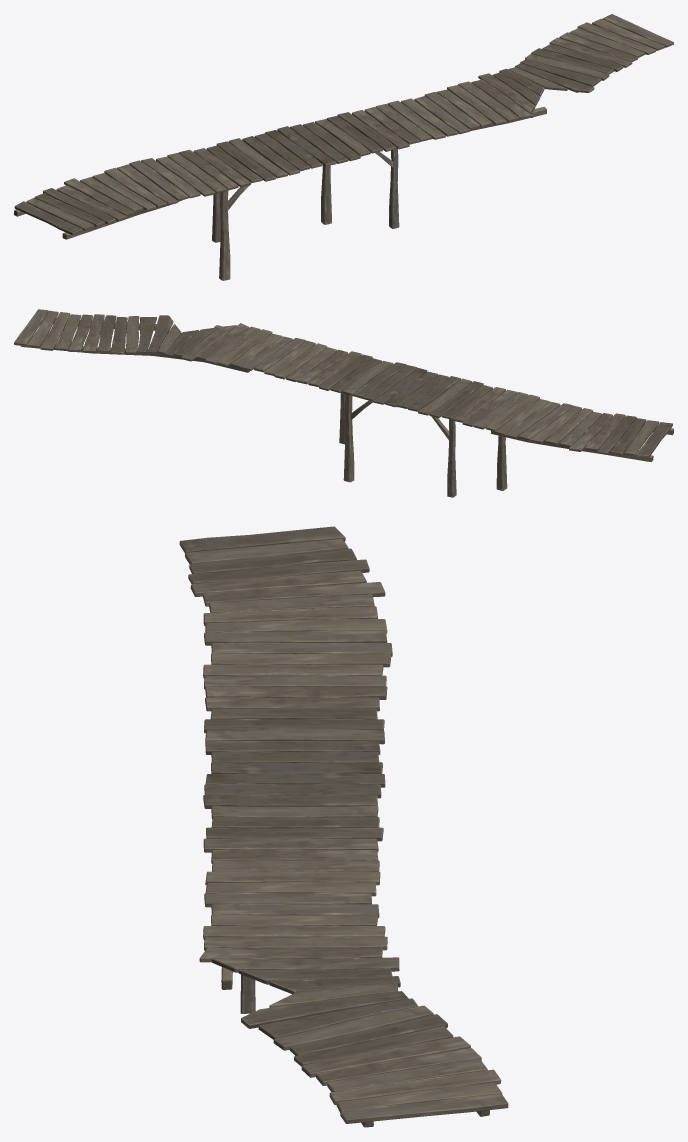
The model's file is BRIDGE.FBX.
The picture shows the model from 3 angles, top to bottom: view 1: azimuth 30°, elevation 25°; view 2: azimuth 150°, elevation 25°; view 3: azimuth 270°, elevation 25°; orthographic projection. The views are drawn at different scales.
Visible parts, largest first — view 1: BRIDGE; view 2: BRIDGE; view 3: BRIDGE.
Boxes of the visible parts, x1,y1,x2,y2 form: BRIDGE: (14,14,673,280); BRIDGE: (14,309,673,497); BRIDGE: (179,526,508,1127).
Size of the model in its own units: 660 by 94.91 by 154.
